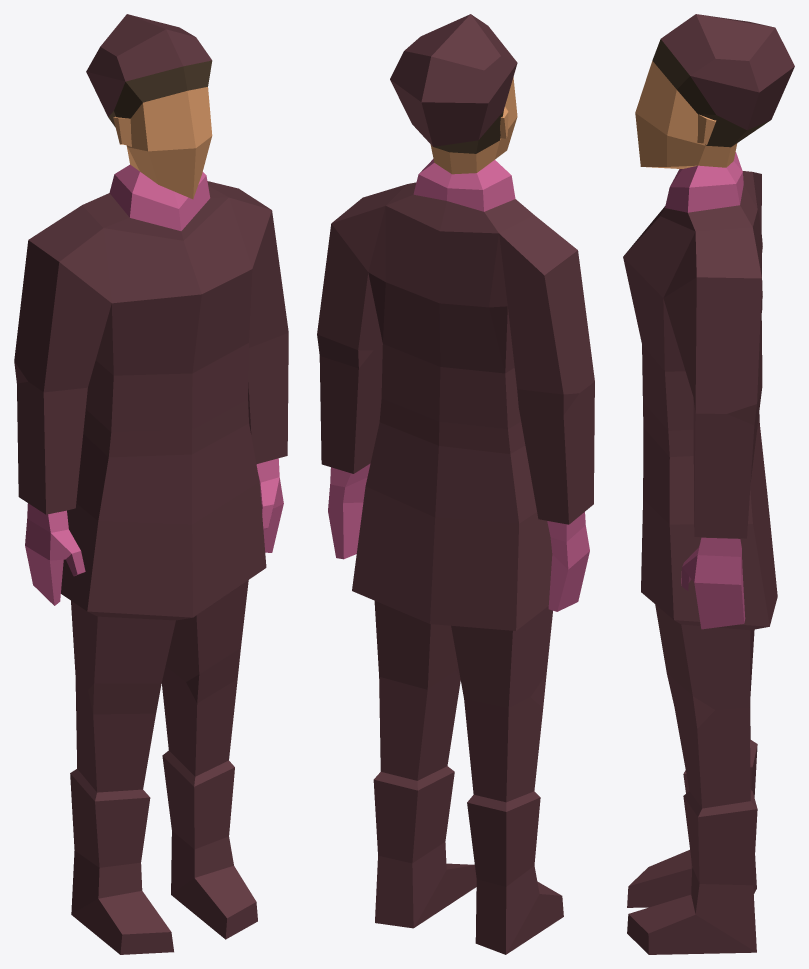
File: woman-winter-coat.fbx
The picture shows the model from 3 angles, left to right: view 1: azimuth 30°, elevation 25°; view 2: azimuth 150°, elevation 25°; view 3: azimuth 270°, elevation 25°; orthographic projection.
Parts seen in each view (by area): view 1: woman-winter-coat; view 2: woman-winter-coat; view 3: woman-winter-coat.
Boxes of the visible parts, bbox=[...] form: woman-winter-coat: bbox=[14, 14, 288, 954]; woman-winter-coat: bbox=[317, 14, 594, 954]; woman-winter-coat: bbox=[623, 14, 794, 954].
Size of the model in its own units: 0.5386 by 1.87 by 0.3219.
